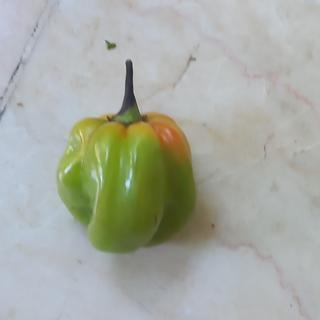Grade-B: (53, 107, 196, 255)
